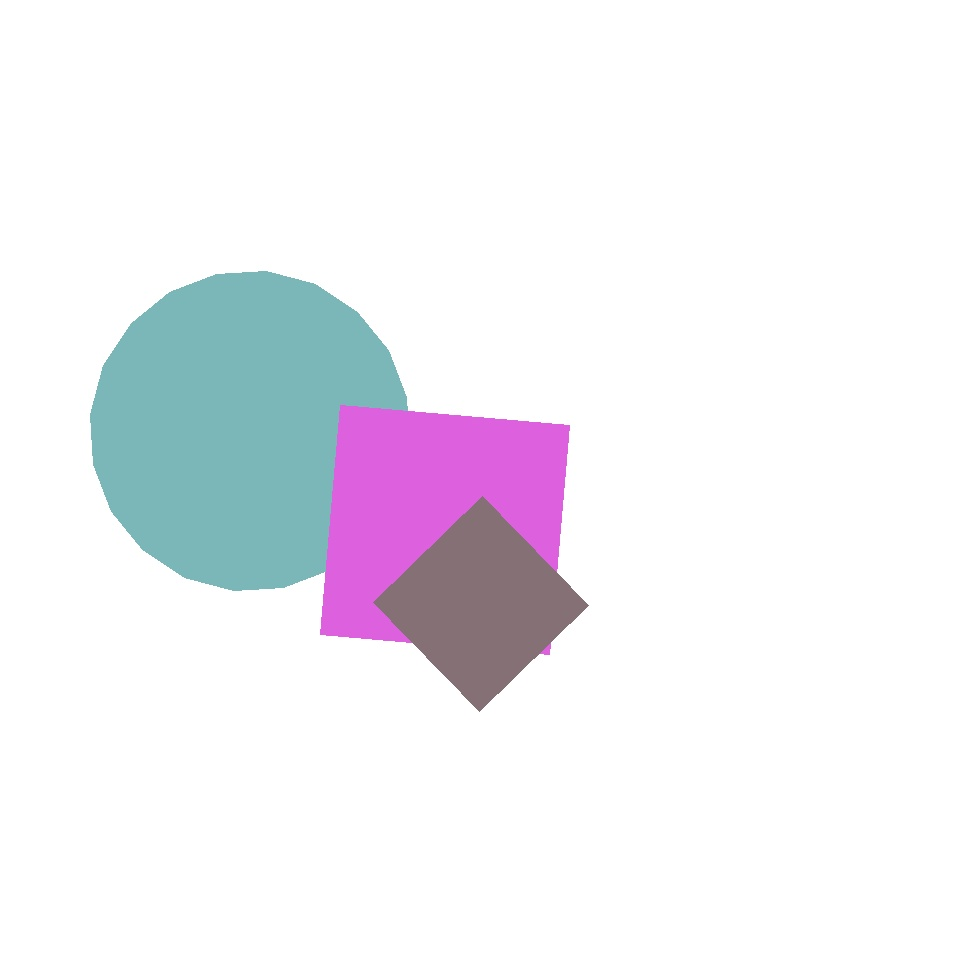circle: (40, 58, 184, 220)
square: (178, 47, 464, 332), (320, 406, 570, 655), (352, 440, 574, 664), (374, 496, 588, 712), (664, 518, 839, 694), (453, 122, 604, 272)
triangle: (91, 272, 410, 590), (152, 566, 444, 860)
